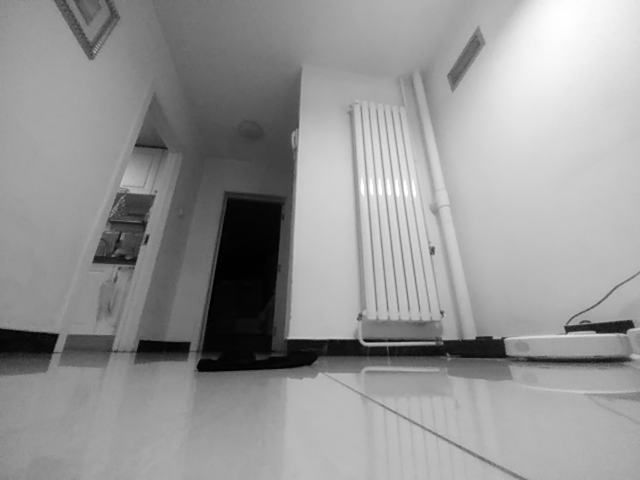others: (195, 348, 322, 371)
